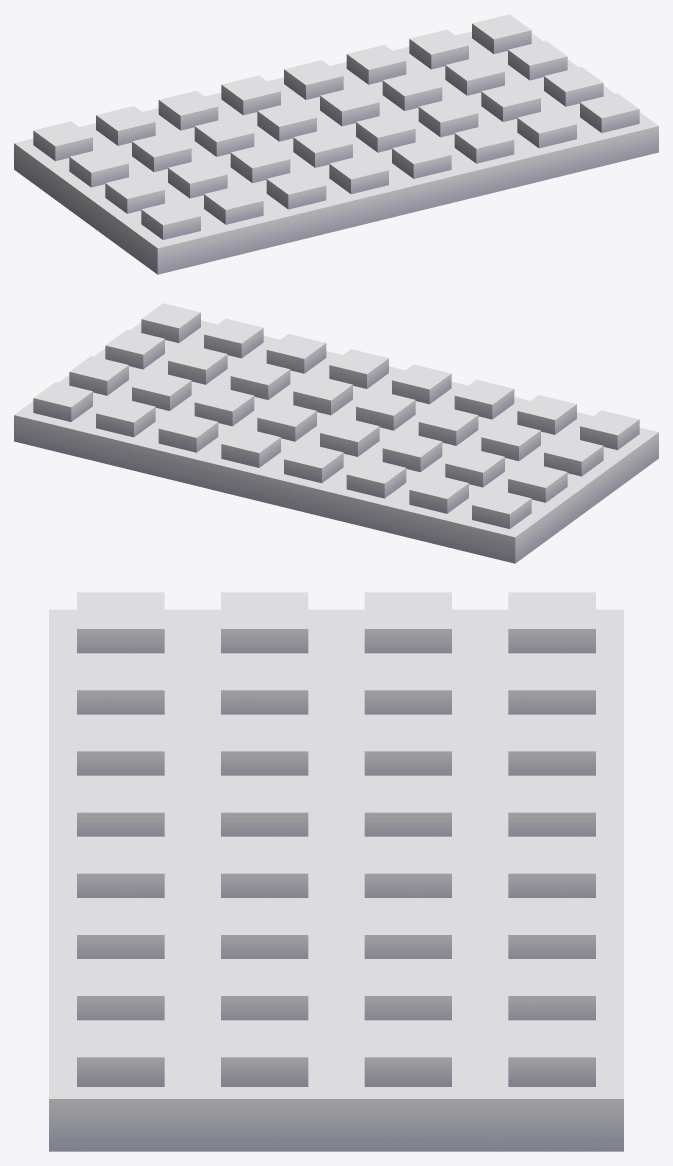
The model's file is brick-kit--square-lq-plate-4x8.glb.
3 renders of one model, top to bottom at view 1: azimuth 30°, elevation 25°; view 2: azimuth 150°, elevation 25°; view 3: azimuth 270°, elevation 25°, orthographic. The views are drawn at different scales.
Visible parts, largest first — view 1: square-lq-plate-4x8; view 2: square-lq-plate-4x8; view 3: square-lq-plate-4x8.
Part boxes in pixels (x1,y1,x2,y2): square-lq-plate-4x8: (14,14,658,274); square-lq-plate-4x8: (14,303,658,563); square-lq-plate-4x8: (49,592,623,1151).
Size of the model in its own units: 0.636 by 0.05 by 0.316.
1 material, 1 textured.
